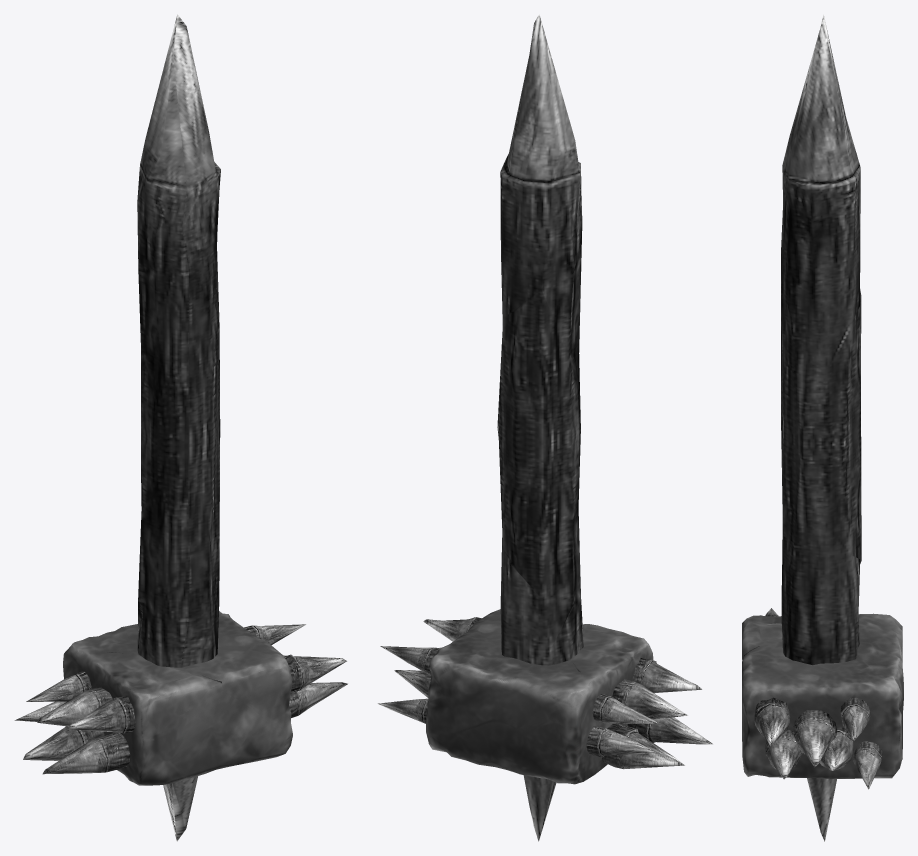
Rendered from Trap_Stampfer.FBX.
The picture shows the model from 3 angles, left to right: view 1: azimuth 30°, elevation 25°; view 2: azimuth 150°, elevation 25°; view 3: azimuth 270°, elevation 25°; orthographic projection.
Parts seen in each view (by area): view 1: Trap_Stampfer; view 2: Trap_Stampfer; view 3: Trap_Stampfer.
Boxes of the visible parts, <box> form: Trap_Stampfer: <box>14,14,347,841</box>; Trap_Stampfer: <box>377,14,712,841</box>; Trap_Stampfer: <box>742,14,903,841</box>.
Size of the model in its own units: 284 by 733 by 130.
